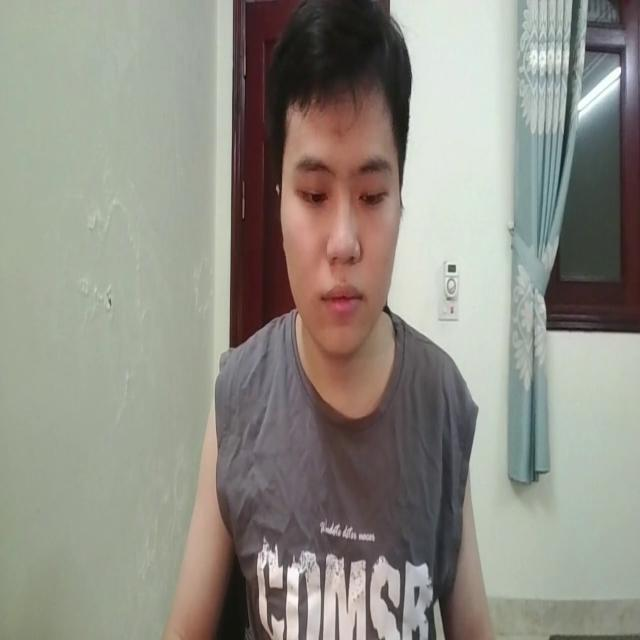student: (164, 0, 493, 640)
